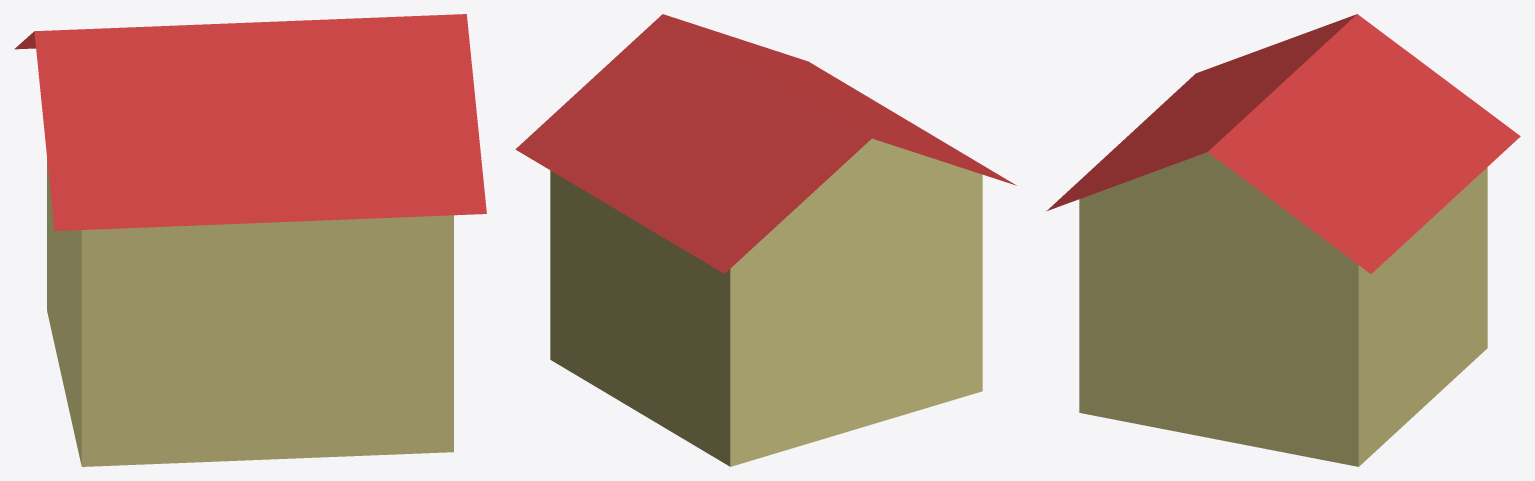
3 views of the same model, side by side, from view 1: azimuth 30°, elevation 25°; view 2: azimuth 150°, elevation 25°; view 3: azimuth 270°, elevation 25° (orthographic). The views are drawn at different scales.
Size of the model in its own units: 14.27 by 14.24 by 9.84.
